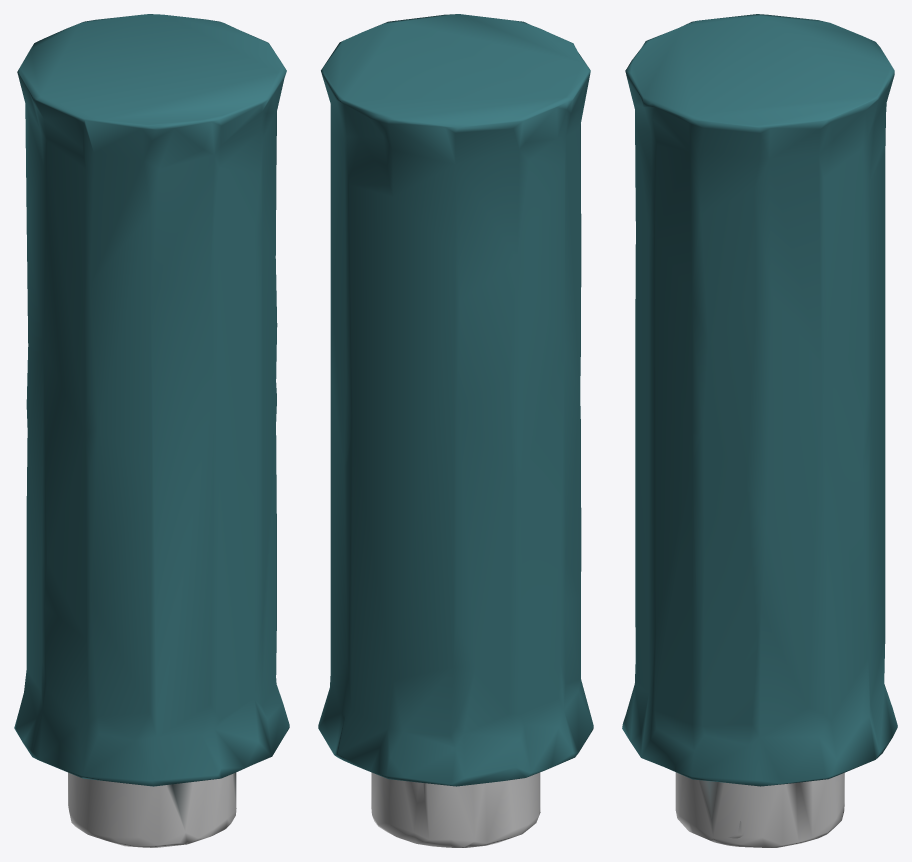
File: gen3d-tube-lod1.glb
The picture shows the model from 3 angles, left to right: view 1: azimuth 30°, elevation 25°; view 2: azimuth 150°, elevation 25°; view 3: azimuth 270°, elevation 25°; orthographic projection.
Parts seen in each view (by area): view 1: part_0; view 2: part_0; view 3: part_0.
Part boxes in pixels (bbox=[...]): part_0: bbox=[14, 14, 289, 847]; part_0: bbox=[318, 14, 593, 847]; part_0: bbox=[622, 14, 897, 847].
Bounding box in the file's own units: 0.3363 × 1 × 0.3361.
